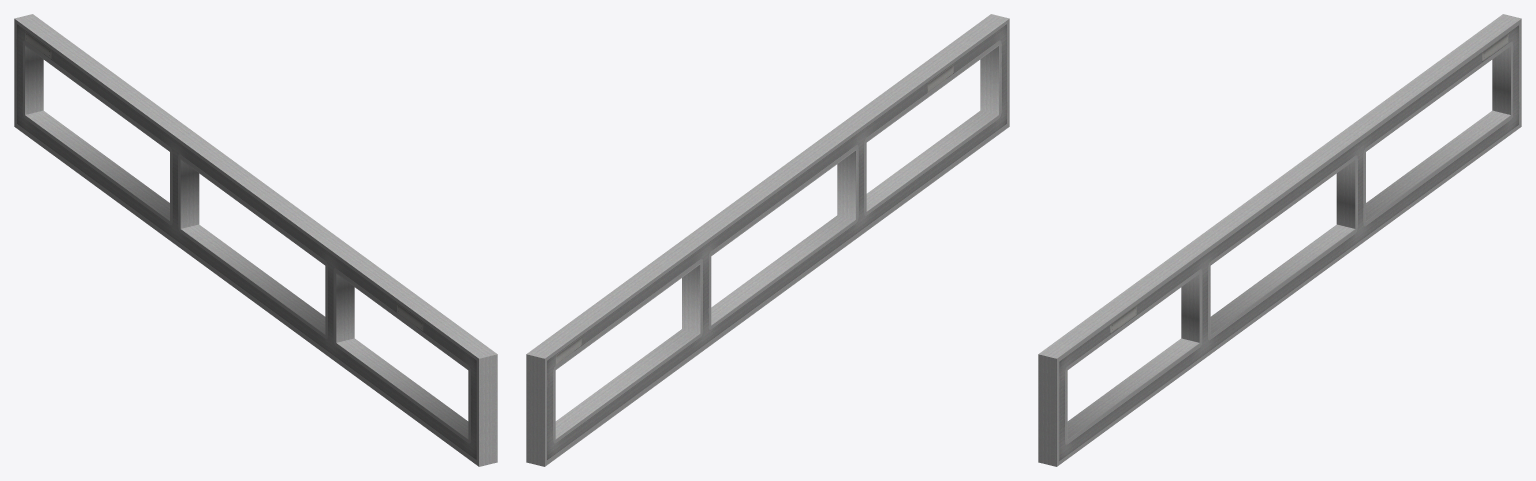
File: Rack_01_03.FBX
3 views of the same model, side by side, from view 1: azimuth 30°, elevation 25°; view 2: azimuth 150°, elevation 25°; view 3: azimuth 330°, elevation 25° (orthographic).
Visible parts, largest first — view 1: Rack_01_01; view 2: Rack_01_01; view 3: Rack_01_01.
Part boxes in pixels (<box>): Rack_01_01: <box>14,14,497,466</box>; Rack_01_01: <box>526,14,1009,466</box>; Rack_01_01: <box>1038,14,1521,466</box>.
Bounding box in the file's own units: 0.5 × 2.78 × 21.66.
